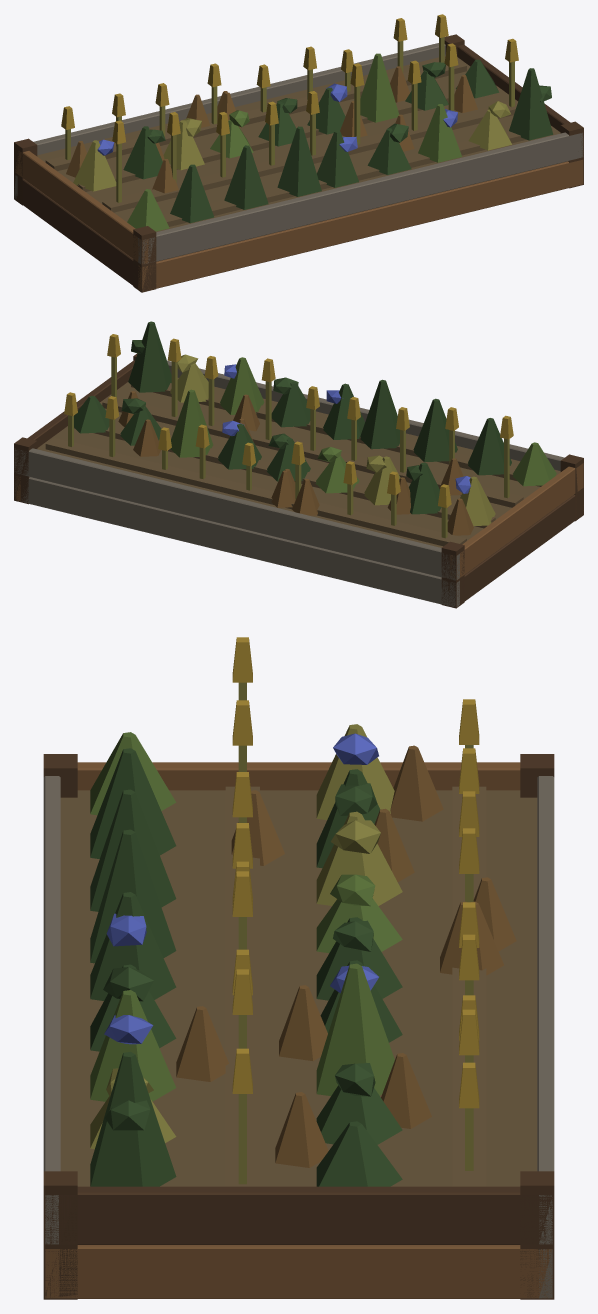
File: lmk_farm_bed.fbx
3 renders of one model, top to bottom at view 1: azimuth 30°, elevation 25°; view 2: azimuth 150°, elevation 25°; view 3: azimuth 270°, elevation 25°, orthographic. The views are drawn at different scales.
Parts seen in each view (by area): view 1: lmk_farm_bed; view 2: lmk_farm_bed; view 3: lmk_farm_bed.
Part boxes in pixels (x1,y1,x2,y2): lmk_farm_bed: [14, 14, 583, 292]; lmk_farm_bed: [14, 321, 583, 608]; lmk_farm_bed: [43, 637, 554, 1299].
Size of the model in its own units: 6 by 1.65 by 3.
